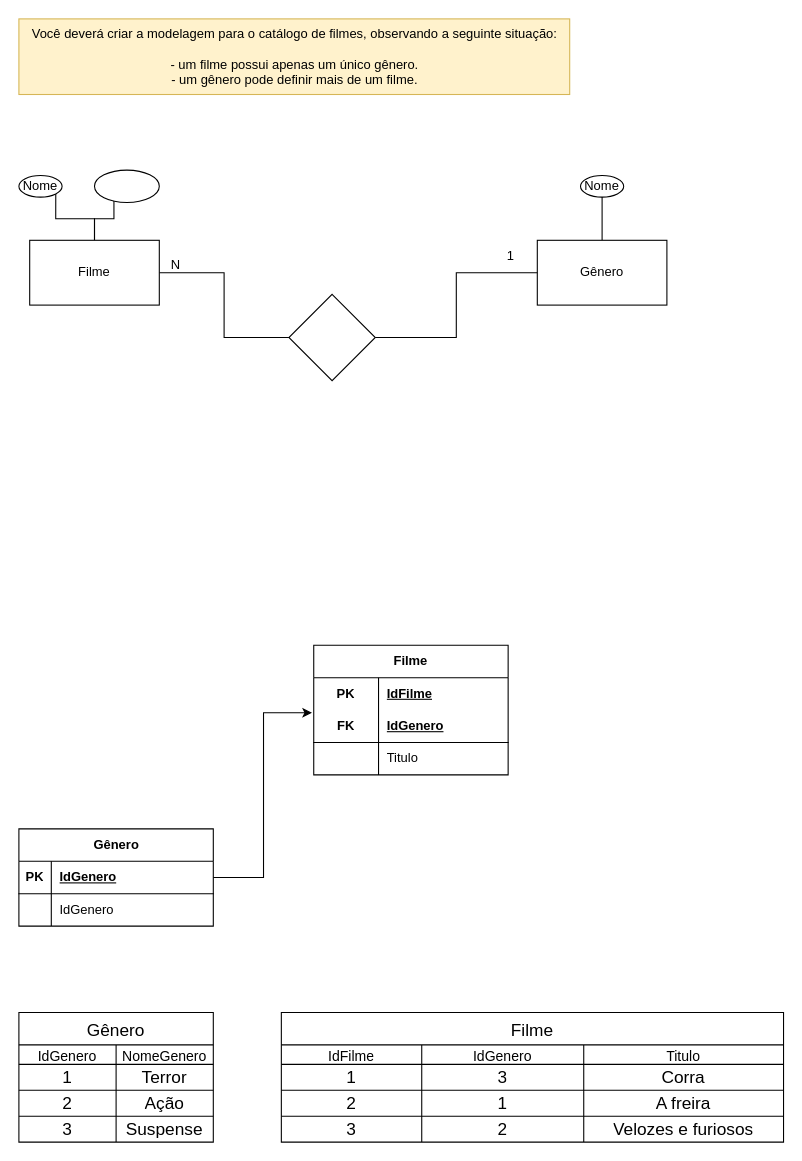
This 802x1161 diagram has some shape labels left out. The shapes that lost their labels are listed below. From the top down, each one's centre as x and y in pixels, then its label:
point 126,185: Descrição
point 331,337: Possui
